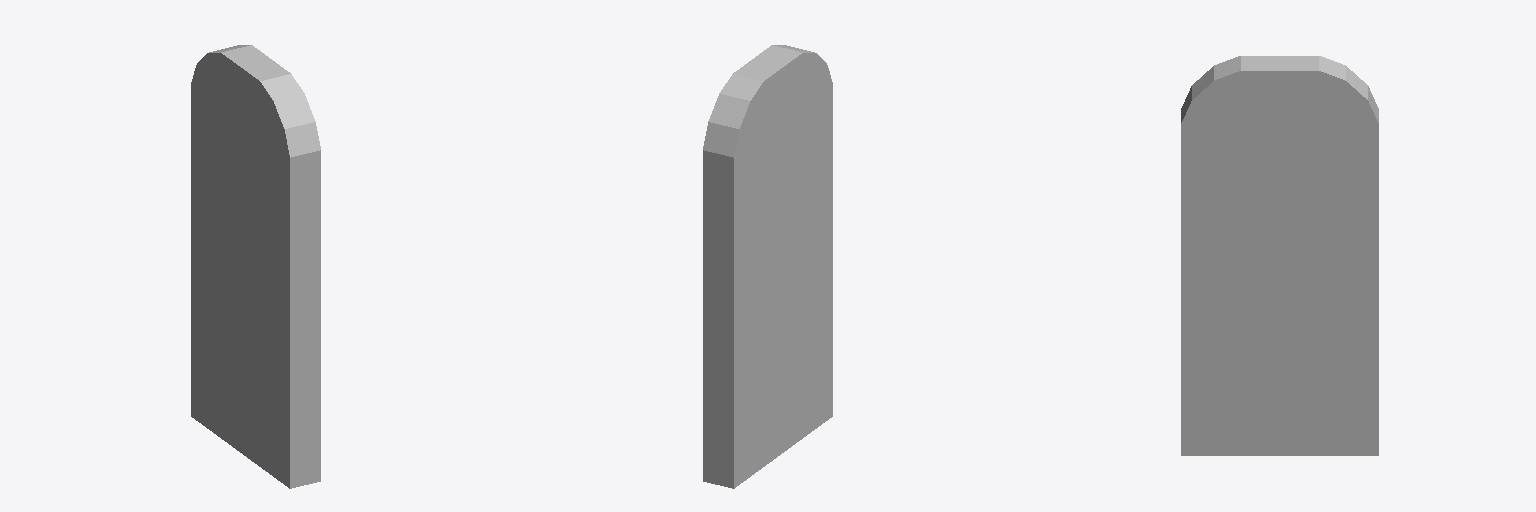
File: door.obj
The picture shows the model from 3 angles: view 1: azimuth 30°, elevation 25°; view 2: azimuth 150°, elevation 25°; view 3: azimuth 270°, elevation 25°; orthographic projection.
Visible parts, largest first — view 1: Box003; view 2: Box003; view 3: Box003.
Part boxes in pixels (x1,y1,x2,y2): Box003: (191, 45, 320, 488); Box003: (703, 45, 832, 488); Box003: (1181, 56, 1378, 455).
Size of the model in its own units: 0.1307 by 1.54 by 0.7211.